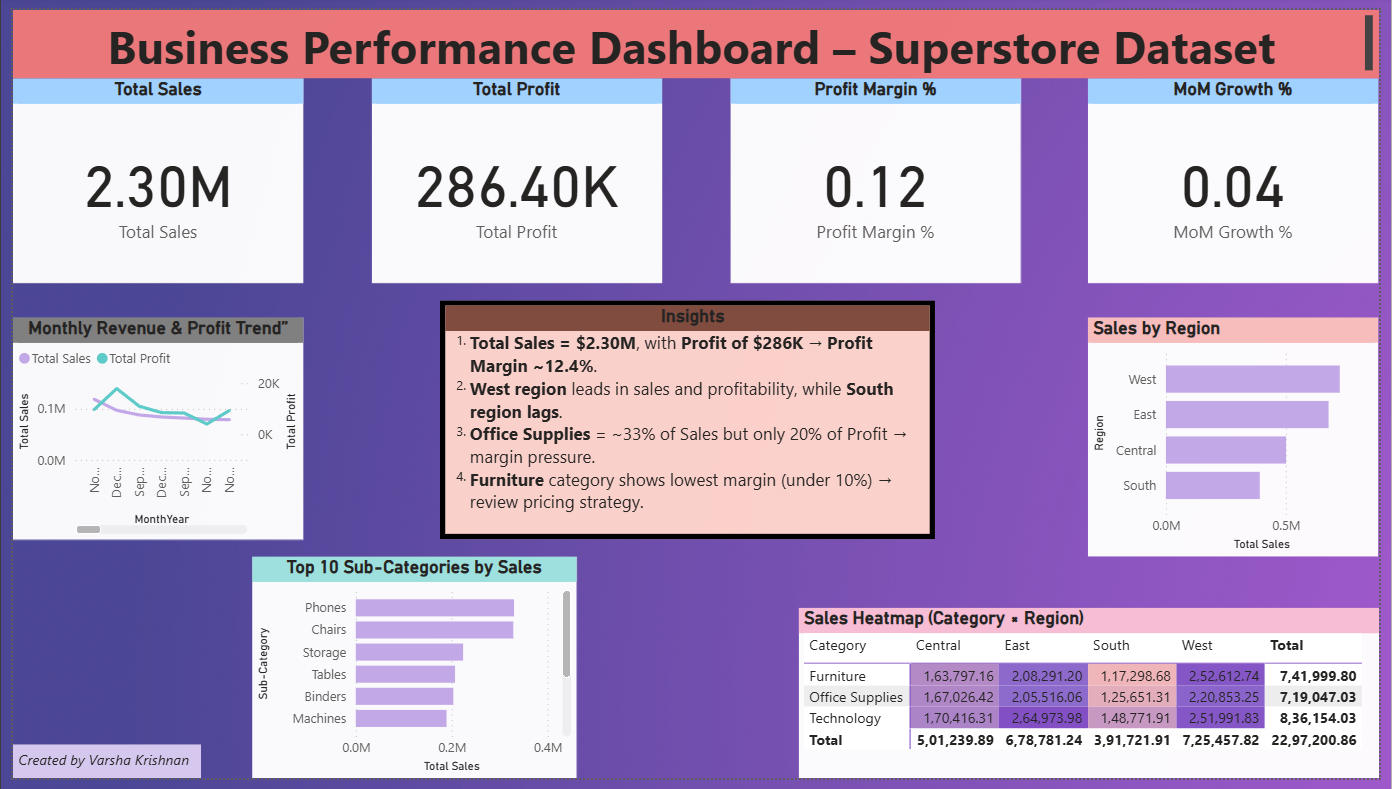

The dashboard page shown, as its layout file describes it:
{"tool":"powerbi","page":{"name":"Page 1","canvas":[1280,720],"ordinal":0},"visuals":[{"type":"card","title":"Total Sales","fields":{"Values":["Orders.Total Sales"]},"box":[0,64,272,192],"z":0},{"type":"card","title":"Total Profit","fields":{"Values":["Orders.Total Profit"]},"box":[336,64,272,192],"z":1000},{"type":"card","title":"Profit Margin %","fields":{"Values":["Orders.Profit Margin %"]},"box":[672,64,272,192],"z":2000},{"type":"card","title":"MoM Growth %","fields":{"Values":["Orders.MoM Growth %"]},"box":[1008,64,272,192],"z":3000},{"type":"lineChart","title":"Monthly Revenue & Profit Trend”","fields":{"Category":["Orders.MonthYear"],"Y":["Orders.Total Sales"],"Y2":["Orders.Total Profit"]},"box":[0,288,272,208],"z":4000},{"type":"clusteredBarChart","title":"Top 10 Sub-Categories by Sales","fields":{"Category":["Orders.Sub-Category"],"Y":["Orders.Total Sales"]},"box":[224,512,304,208],"z":5000},{"type":"clusteredBarChart","title":"Sales by Region","fields":{"Y":["Orders.Total Sales"],"Category":["Orders.Region"]},"box":[1008,288,272,224],"z":6000},{"type":"pivotTable","title":"Sales Heatmap (Category × Region)","fields":{"Rows":["Orders.Category"],"Columns":["Orders.Region"],"Values":["Orders.Total Sales"]},"box":[736,560,544,160],"z":7000},{"type":"textbox","title":"Insights","box":[400,272,464,224],"z":10000},{"type":"textbox","box":[0,0,1280,64],"z":11000},{"type":"textbox","box":[0,688,176,32],"z":12000}]}

Visuals, with their boxes in screenshot pixels (x1, y1, x2, y2), scaled from the page's 1280x720 canvas onto the 1392x789 screenshot:
"Total Sales" card: pyautogui.locateOnScreen(0, 70, 296, 281)
"Total Profit" card: pyautogui.locateOnScreen(365, 70, 661, 281)
"Profit Margin %" card: pyautogui.locateOnScreen(731, 70, 1027, 281)
"MoM Growth %" card: pyautogui.locateOnScreen(1096, 70, 1391, 281)
"Monthly Revenue & Profit Trend”" lineChart: pyautogui.locateOnScreen(0, 316, 296, 544)
"Top 10 Sub-Categories by Sales" clusteredBarChart: pyautogui.locateOnScreen(244, 561, 574, 788)
"Sales by Region" clusteredBarChart: pyautogui.locateOnScreen(1096, 316, 1391, 561)
"Sales Heatmap (Category × Region)" pivotTable: pyautogui.locateOnScreen(800, 614, 1391, 788)
"Insights" textbox: pyautogui.locateOnScreen(435, 298, 940, 544)
textbox: pyautogui.locateOnScreen(0, 0, 1391, 70)
textbox: pyautogui.locateOnScreen(0, 754, 191, 788)
